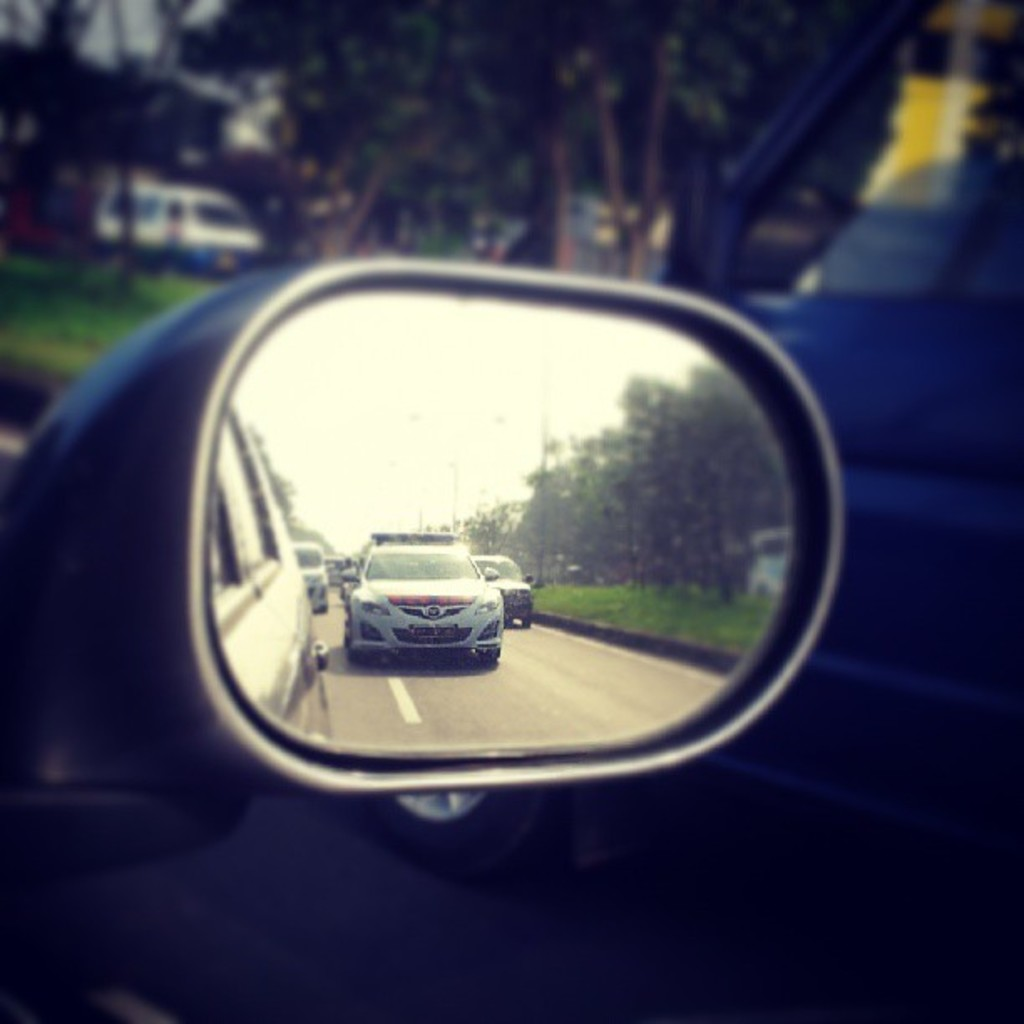Car: (0, 252, 839, 1022), (341, 535, 496, 657), (483, 553, 533, 624), (294, 540, 324, 612)
